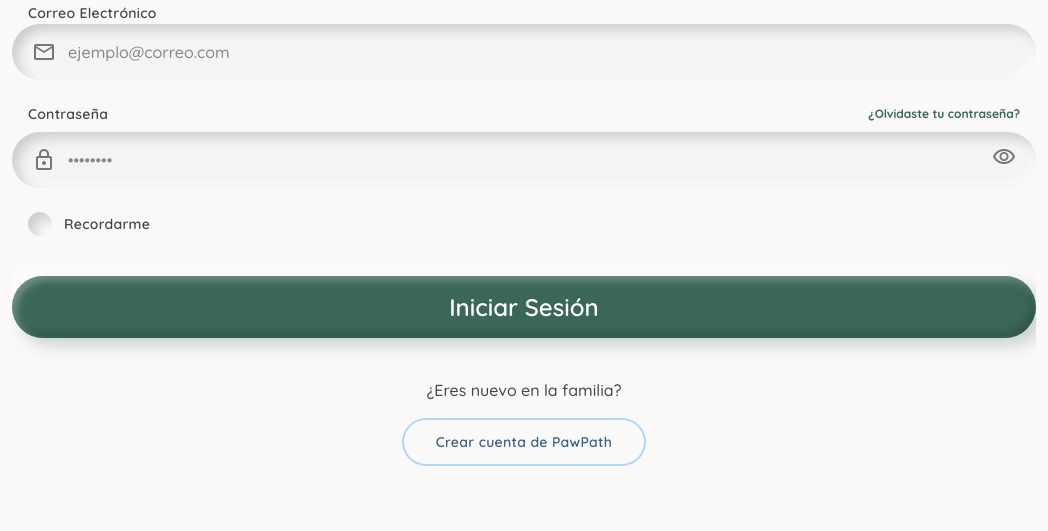
LoginForm.svelte › shows validation errors when submitting an empty form
The width and height of the screenshot is (1048, 531).
Click the button "Iniciar Sesión" at (524, 307), box [12,276,1036,338]
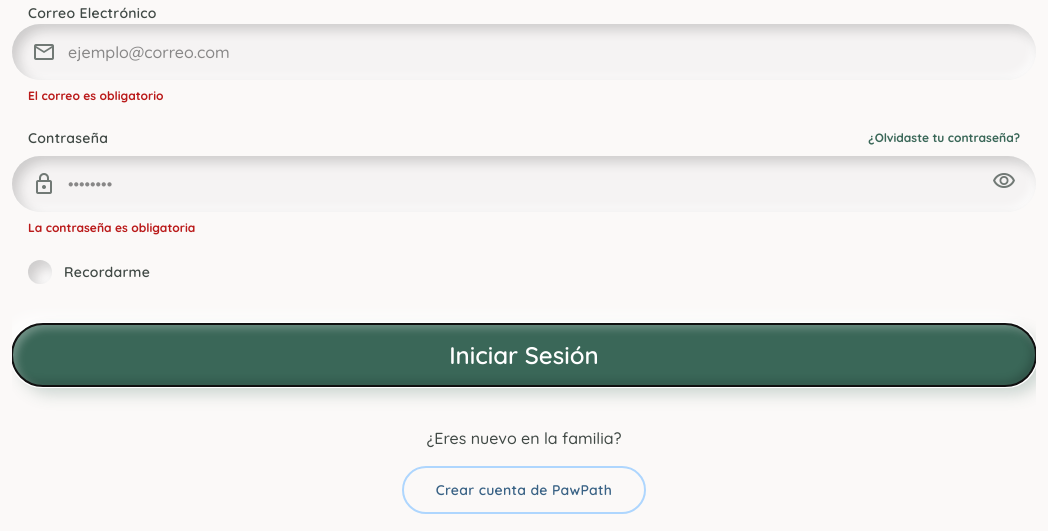
Check: the text "El correo es obligatorio" is shown, box [28,88,164,103]
Check: the text "La contraseña es obligatoria" is shown, box [28,220,195,235]
